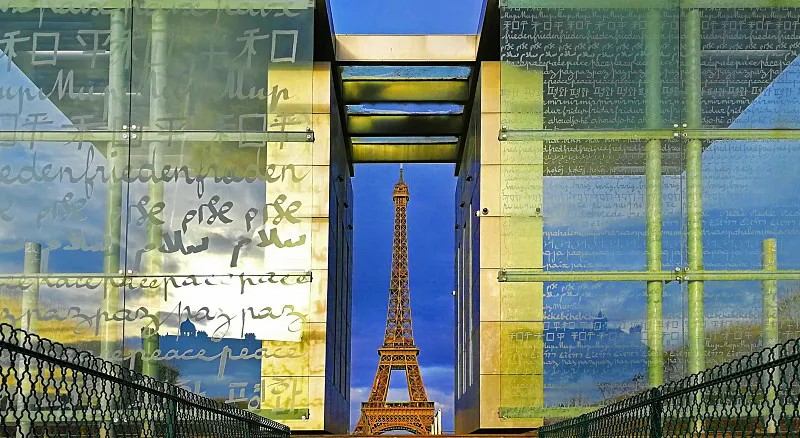Eiffel: (353, 164, 437, 436)
